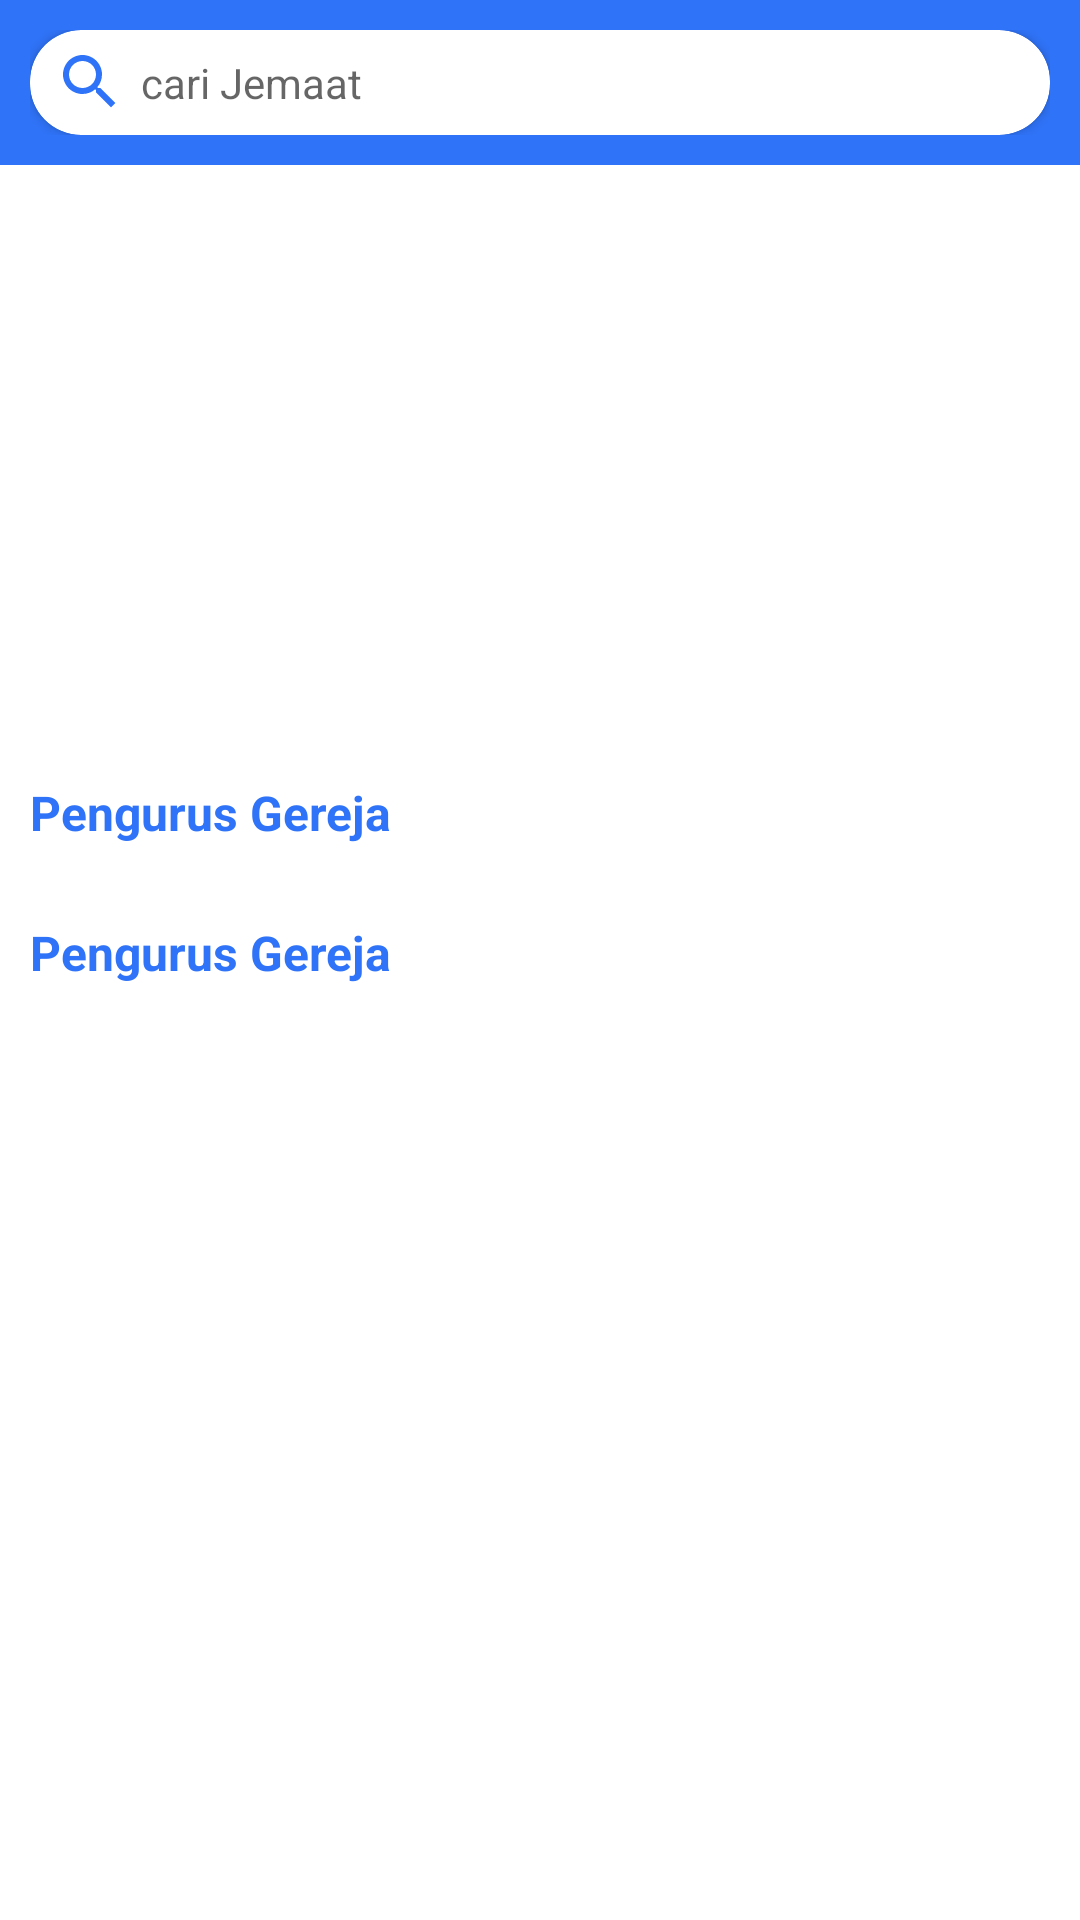

Screen size 1080*1920. Icon name, then its center in pixels as [x,y]:
search: [89,81]
